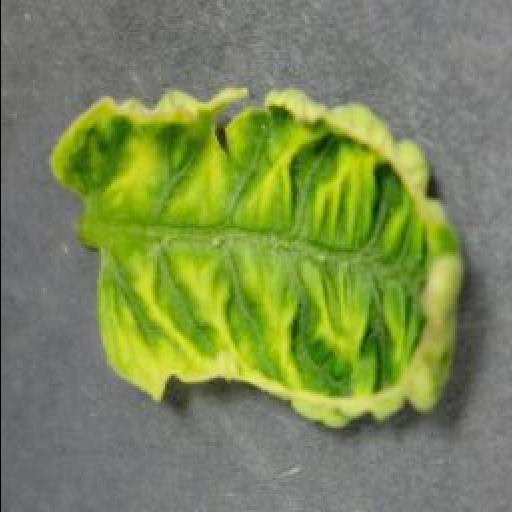disease_tomato: (48, 83, 466, 427)
